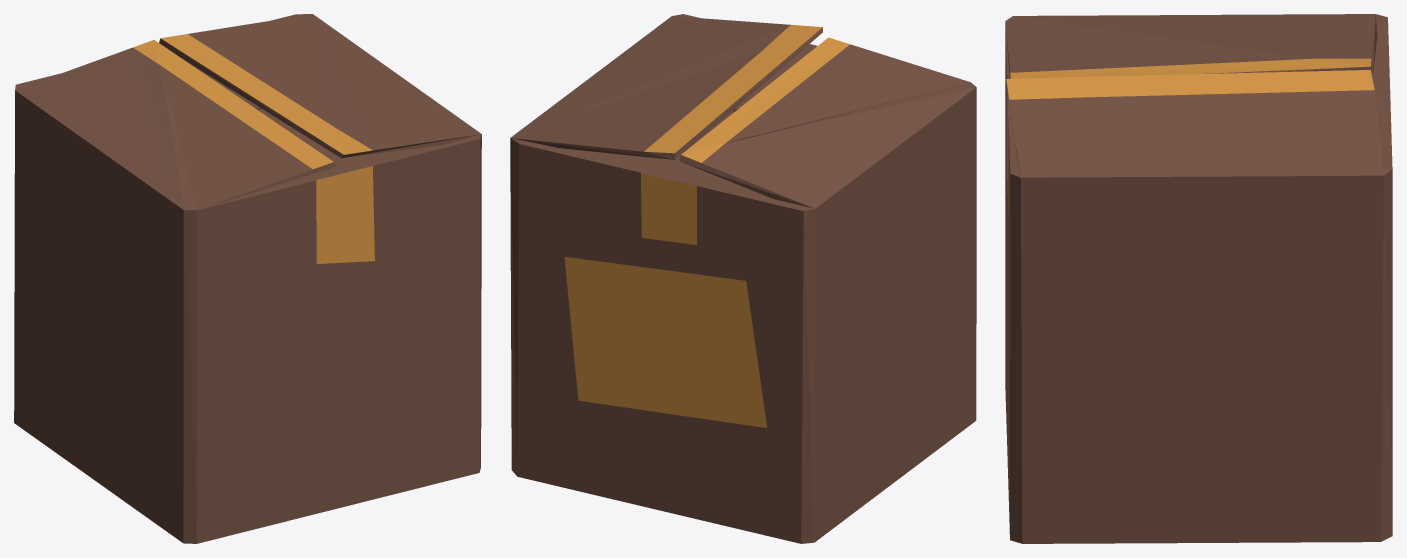
File: cardboard-box.glb
The picture shows the model from 3 angles, left to right: view 1: azimuth 30°, elevation 25°; view 2: azimuth 150°, elevation 25°; view 3: azimuth 270°, elevation 25°; orthographic projection. The views are drawn at different scales.
Visible parts, largest first — view 1: Cardboard Box; view 2: Cardboard Box; view 3: Cardboard Box.
Part boxes in pixels (left/top/right/bottom): Cardboard Box: left=14, top=14, right=481, bottom=543; Cardboard Box: left=510, top=14, right=976, bottom=543; Cardboard Box: left=1005, top=14, right=1392, bottom=543.
Size of the model in its own units: 0.326 by 0.36 by 0.3259.
